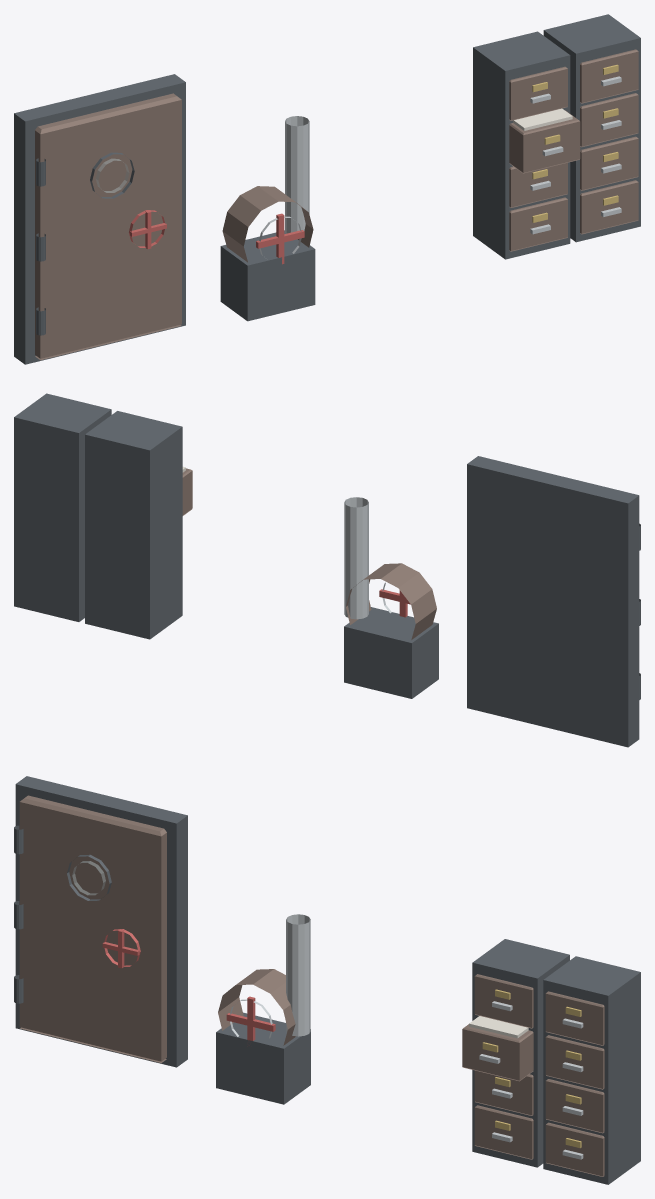
Rendered from sf_bunker_props_pack.glb.
The picture shows the model from 3 angles, top to bottom: view 1: azimuth 30°, elevation 25°; view 2: azimuth 150°, elevation 25°; view 3: azimuth 330°, elevation 25°; orthographic projection.
Visible parts, largest first — view 1: BunkerPackPure3D_Root, BunkerPackPure3D_Anim; view 2: BunkerPackPure3D_Root; view 3: BunkerPackPure3D_Root, BunkerPackPure3D_Anim.
Boxes of the visible parts, box(x1,y1,x2,y2) form: BunkerPackPure3D_Root: box(14, 14, 640, 364); BunkerPackPure3D_Anim: box(256, 213, 304, 264); BunkerPackPure3D_Root: box(14, 393, 640, 747); BunkerPackPure3D_Root: box(14, 776, 640, 1184); BunkerPackPure3D_Anim: box(226, 996, 275, 1046).
Bounding box in the file's own units: 6.23 × 2.4 × 0.87.
